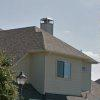Chimney: (38, 12, 57, 36)
